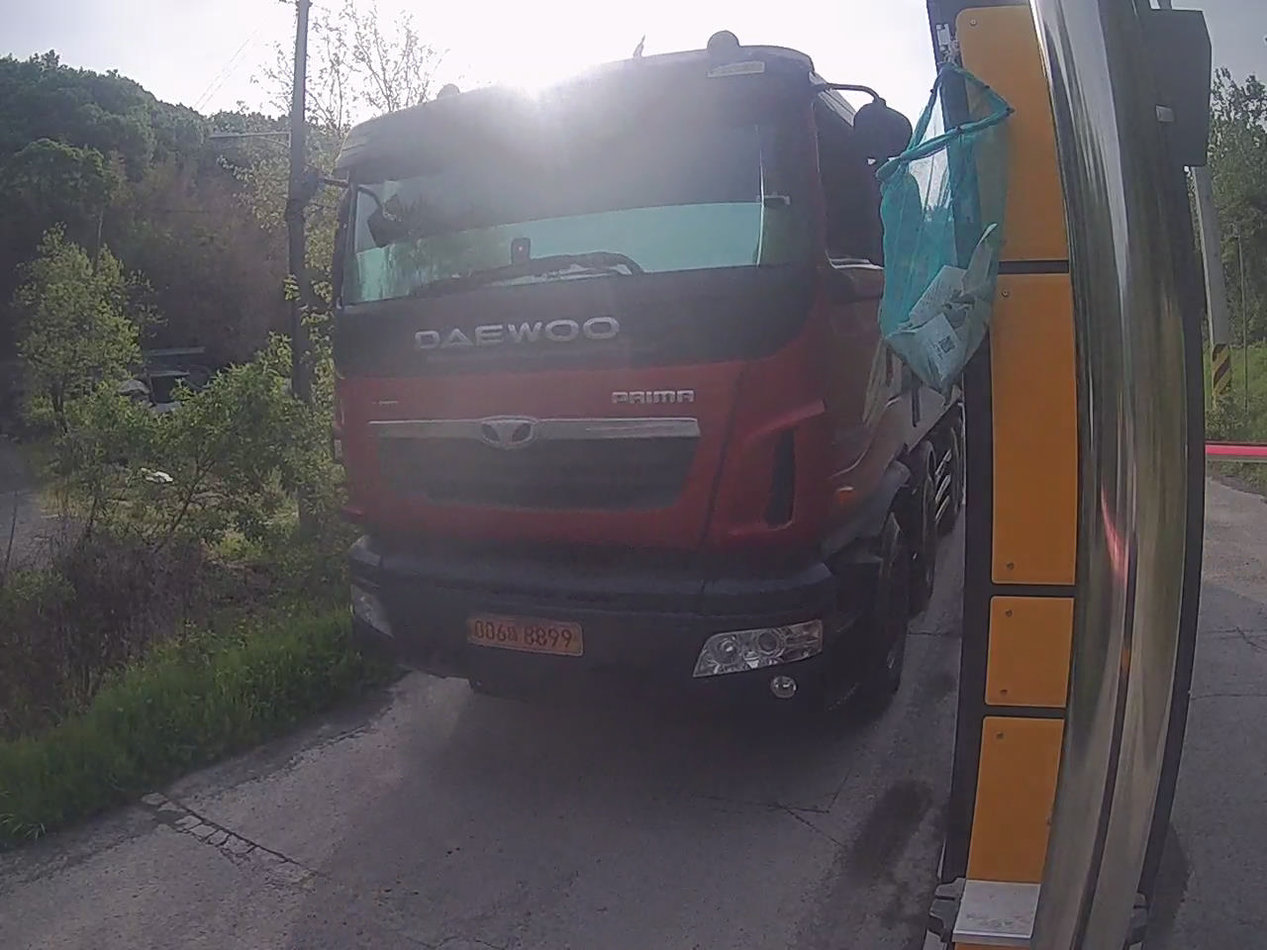license_plate: (468, 616, 582, 655)
truck: (334, 33, 963, 709)
